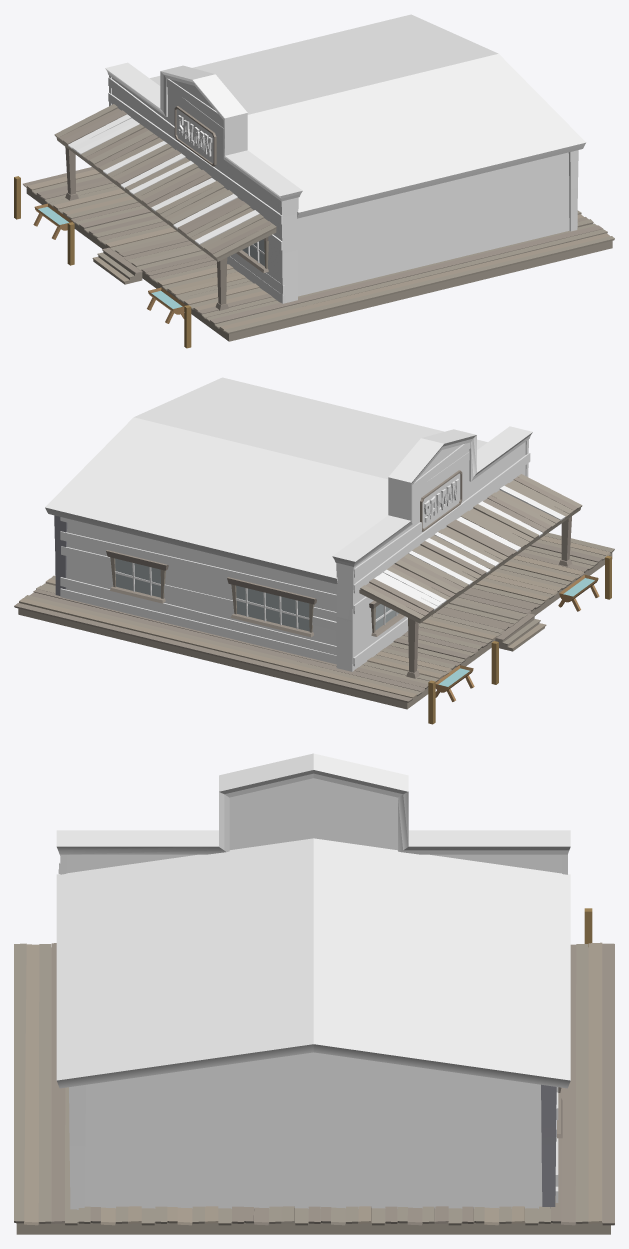
Rendered from saloon_staccato.fbx.
The picture shows the model from 3 angles, top to bottom: view 1: azimuth 30°, elevation 25°; view 2: azimuth 150°, elevation 25°; view 3: azimuth 270°, elevation 25°; orthographic projection. The views are drawn at different scales.
Visible parts, largest first — view 1: MSH_saloon_muro_esterno, MSH_saloon_interno, abbeveratoio_1__2_, abbeveratoio_1; view 2: MSH_saloon_muro_esterno, MSH_saloon_interno, abbeveratoio_1__2_, abbeveratoio_1; view 3: MSH_saloon_muro_esterno, MSH_saloon_interno.
Boxes of the visible parts, left/top/right/bottom form: MSH_saloon_muro_esterno: left=54, top=14, right=586, bottom=310; MSH_saloon_interno: left=23, top=167, right=614, bottom=341; abbeveratoio_1__2_: left=147, top=287, right=185, bottom=323; abbeveratoio_1: left=33, top=203, right=73, bottom=239; MSH_saloon_muro_esterno: left=45, top=377, right=582, bottom=678; MSH_saloon_interno: left=14, top=515, right=614, bottom=709; abbeveratoio_1__2_: left=558, top=574, right=599, bottom=611; abbeveratoio_1: left=435, top=665, right=474, bottom=701; MSH_saloon_muro_esterno: left=56, top=753, right=570, bottom=1209; MSH_saloon_interno: left=14, top=942, right=614, bottom=1234.
Size of the model in its own units: 2762 by 1215 by 2380.
